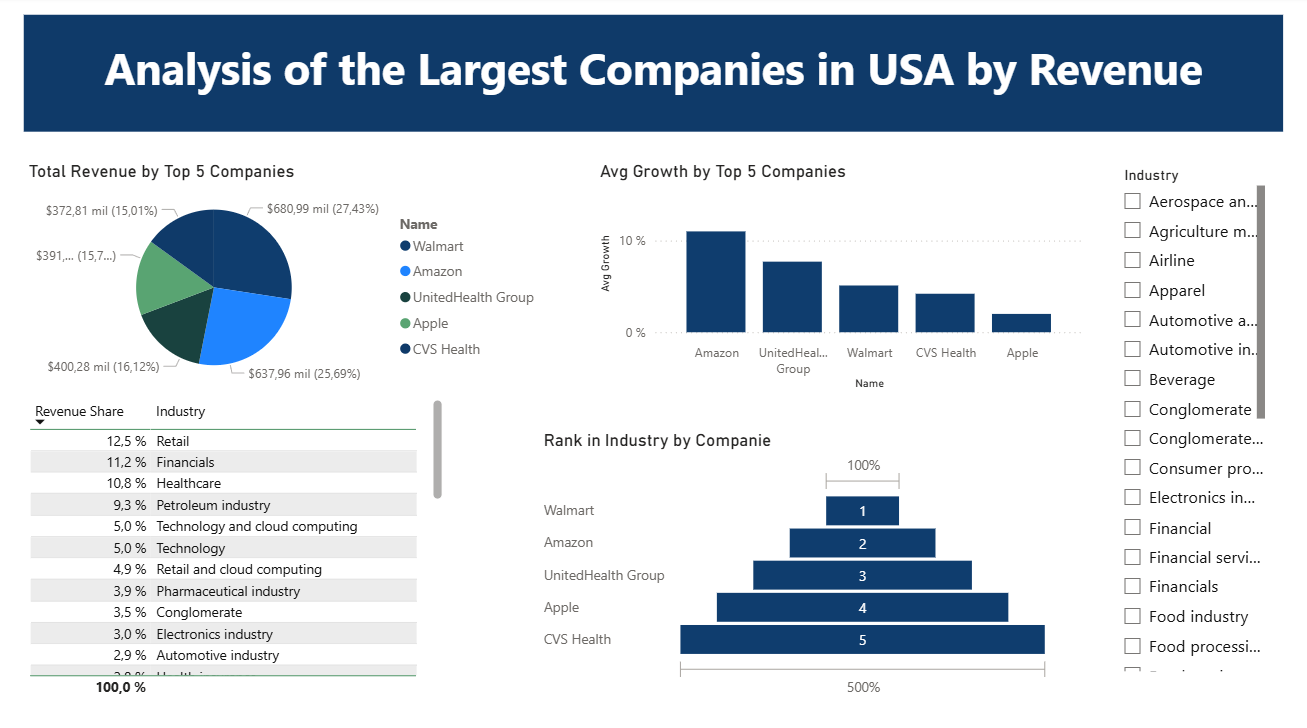

The dashboard page shown, as its layout file describes it:
{"tool":"powerbi","page":{"name":"Página 1","canvas":[1280,720],"ordinal":0},"visuals":[{"type":"tableEx","fields":{"Values":["Medidas.Revenue Share %","Companies.Industry"]},"box":[23.4,389.6,414.4,300.1],"z":0},{"type":"slicer","fields":{"Values":["Companies.Industry"]},"box":[1087.5,161.1,155.6,503.9],"z":1000},{"type":"funnel","title":"Rank in Industry by Companie","fields":{"Y":["Medidas.Rank in Industry"],"Category":["Companies.Name"]},"box":[527.3,424,505.2,265.7],"z":2000},{"type":"clusteredColumnChart","title":"Avg Growth by Top 5 Companies","fields":{"Category":["Companies.Name"],"Y":["Medidas.Avg Growth"]},"box":[582.3,161.1,483.2,228.5],"z":3000},{"type":"pieChart","title":"Total Revenue by Top 5 Companies","fields":{"Category":["Companies.Name"],"Y":["Medidas.Total Revenue"]},"box":[23.4,161.1,513.5,228.5],"z":4000},{"type":"textbox","box":[23.4,17.9,1232.1,114.3],"z":5000}]}

Visuals, with their boxes in screenshot pixels (x1, y1, x2, y2), scaled from the page's 1280x720 canvas onto the 1307x728 screenshot:
tableEx - Medidas.Revenue Share % x Companies.Industry: 24,394,447,697
slicer - Companies.Industry: 1110,163,1269,672
"Rank in Industry by Companie" funnel: 538,429,1054,697
"Avg Growth by Top 5 Companies" clusteredColumnChart: 595,163,1088,394
"Total Revenue by Top 5 Companies" pieChart: 24,163,548,394
textbox: 24,18,1282,134
